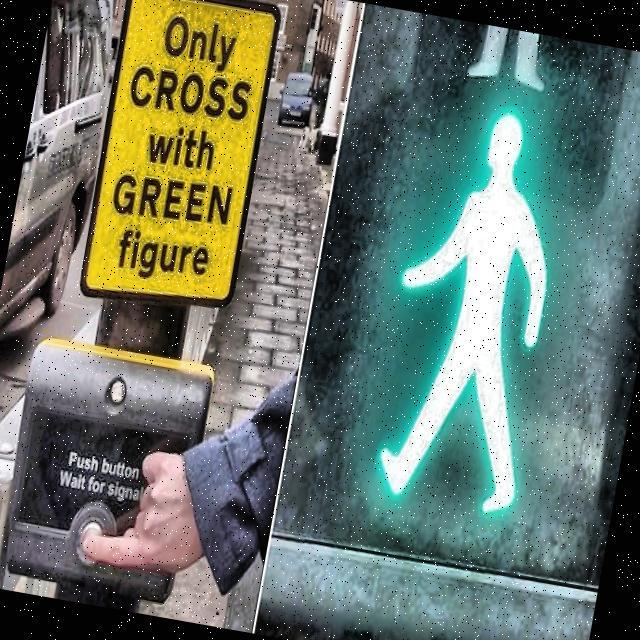green_light: (354, 92, 587, 530)
